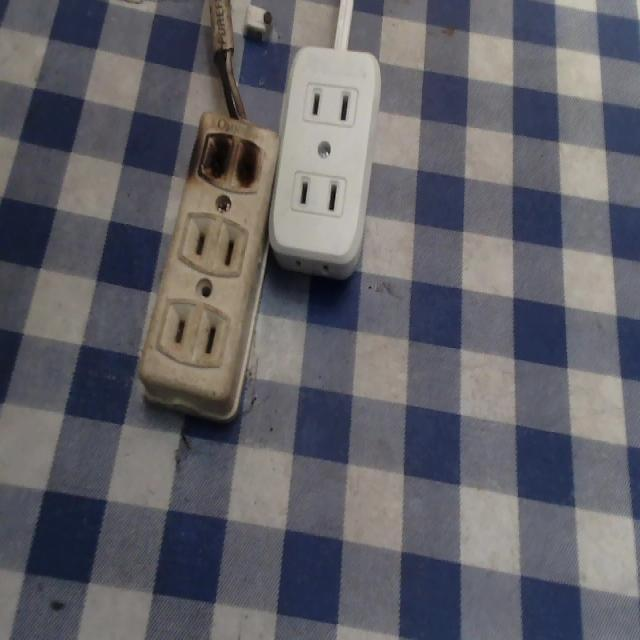-: (198, 125, 261, 191)
